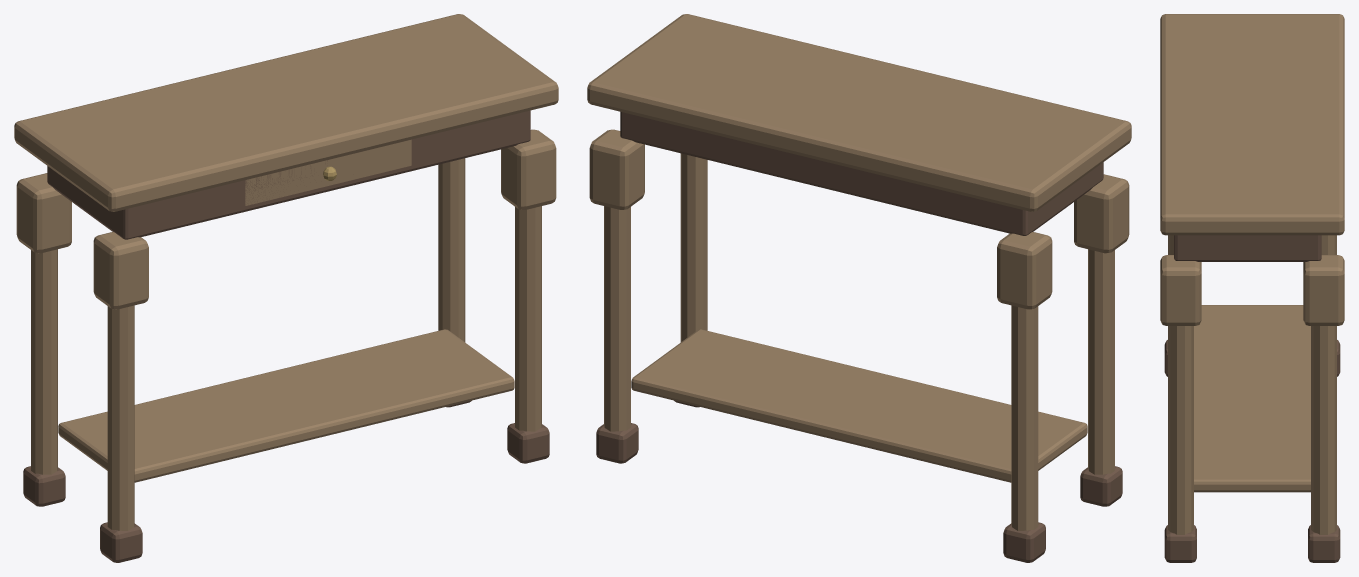
3 renders of one model, left to right at view 1: azimuth 30°, elevation 25°; view 2: azimuth 150°, elevation 25°; view 3: azimuth 270°, elevation 25°, orthographic. The views are drawn at different scales.
Visible parts, largest first — view 1: consoleTable; view 2: consoleTable; view 3: consoleTable.
Part boxes in pixels (x1,y1,x2,y2): consoleTable: [14, 14, 558, 562]; consoleTable: [587, 14, 1131, 562]; consoleTable: [1160, 14, 1344, 562].
Size of the model in its own units: 1.05 by 0.84 by 0.4.
